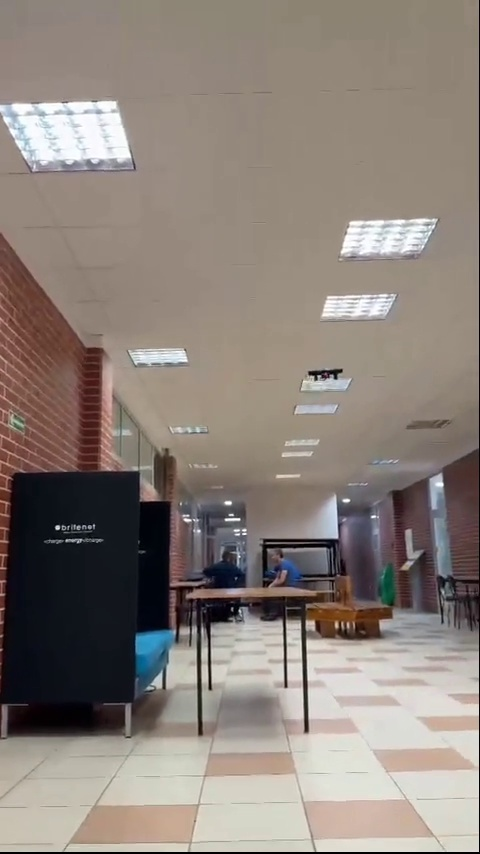drone: (309, 368, 345, 381)
no vest: (264, 545, 301, 593), (206, 548, 243, 584)
